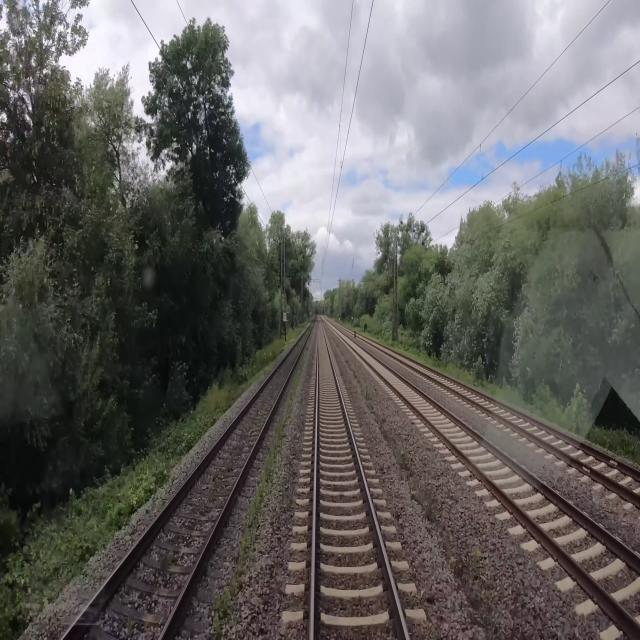Plant: (212, 357, 302, 639), (346, 361, 436, 521)
